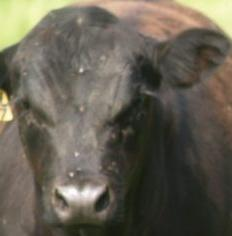muzzles: (44, 175, 118, 227)
